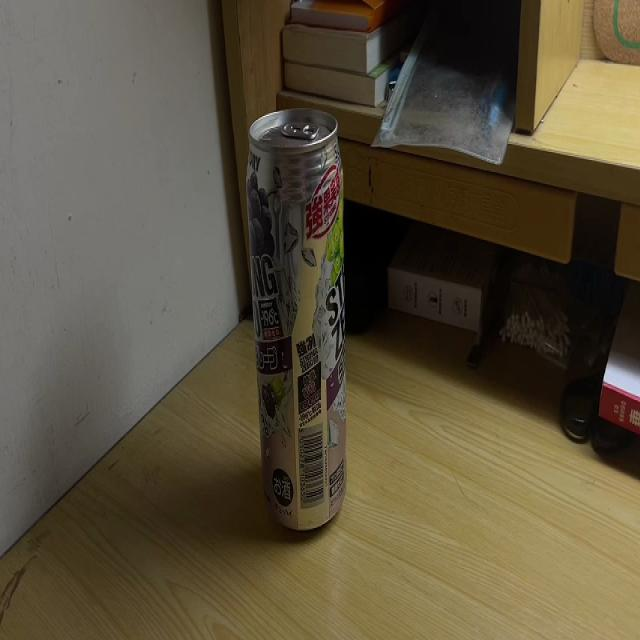Liquor: (239, 101, 354, 542)
